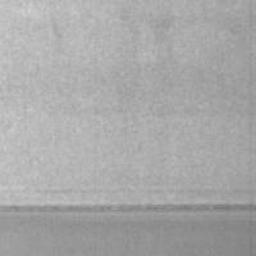Welding line: (0, 202, 256, 214)
